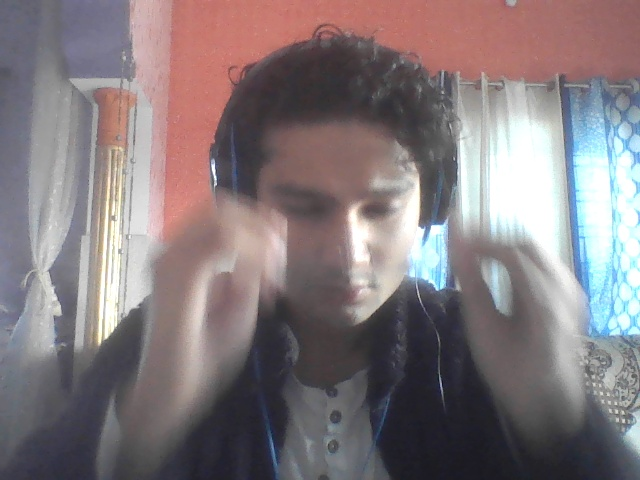real: (220, 35, 445, 354)
